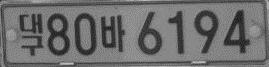0: (72, 12, 97, 55)
1: (165, 10, 191, 54)
4: (223, 9, 250, 53)
6: (136, 11, 162, 55)
8: (45, 12, 70, 56)
9: (193, 9, 219, 53)
대구_V: (18, 12, 43, 56)
바: (99, 14, 125, 52)
